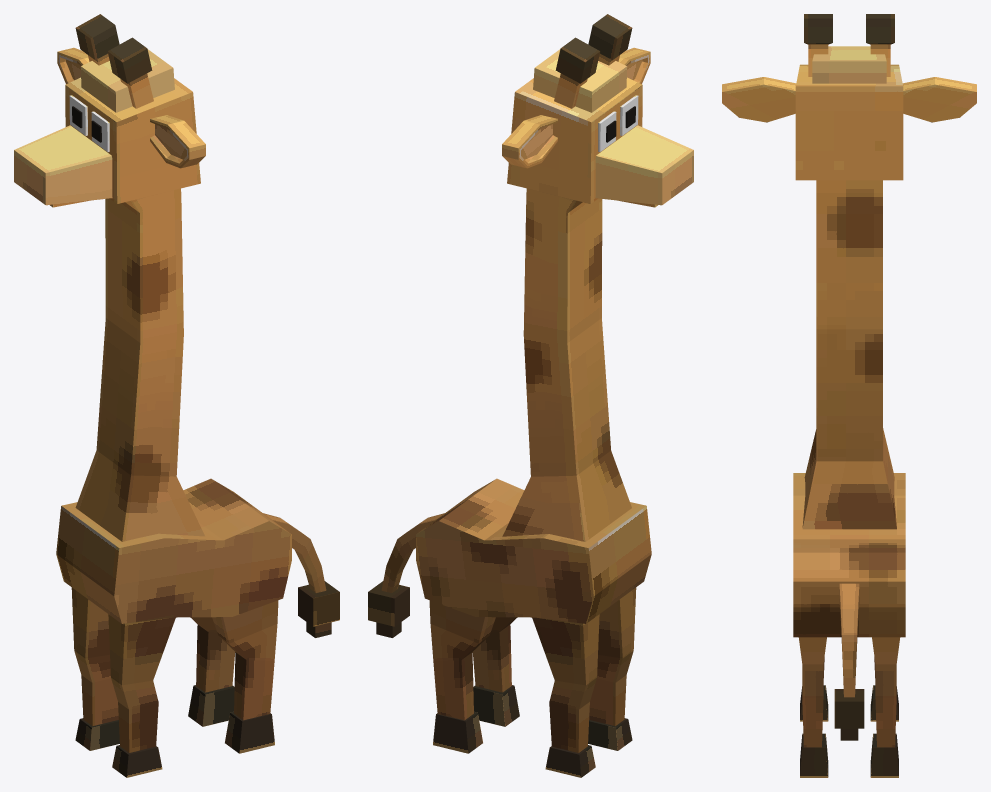
The model's file is animal_giraffee.obj.
3 renders of one model, left to right at view 1: azimuth 30°, elevation 25°; view 2: azimuth 150°, elevation 25°; view 3: azimuth 270°, elevation 25°, orthographic. The views are drawn at different scales.
Parts seen in each view (by area): view 1: animal_giraffee; view 2: animal_giraffee; view 3: animal_giraffee.
Boxes of the visible parts, bbox=[...] form: animal_giraffee: bbox=[14, 14, 339, 777]; animal_giraffee: bbox=[368, 14, 693, 777]; animal_giraffee: bbox=[722, 14, 976, 777].
Bounding box in the file's own units: 5.71 × 13.1 × 4.32.
1 material, 1 textured.
